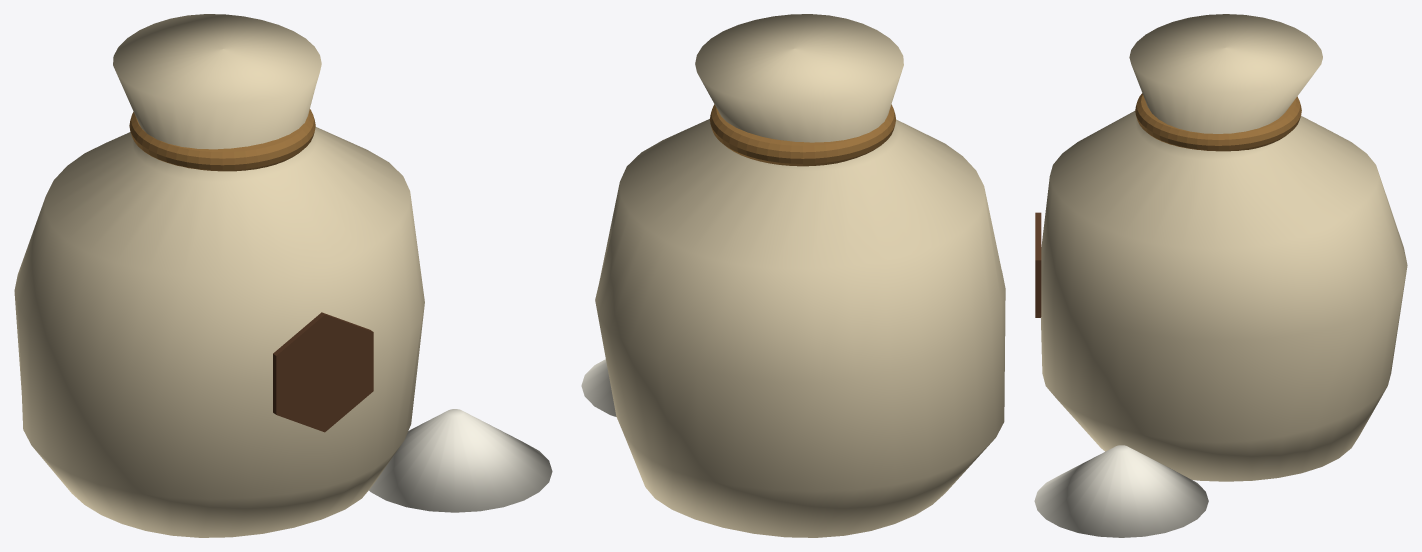
Rendered from mehl.glb.
The picture shows the model from 3 angles, left to right: view 1: azimuth 30°, elevation 25°; view 2: azimuth 150°, elevation 25°; view 3: azimuth 270°, elevation 25°; orthographic projection. The views are drawn at different scales.
Parts seen in each view (by area): view 1: sack, Cone, Cylinder, Torus; view 2: sack, Torus, Cone; view 3: sack, Cone, Torus, Cylinder.
Boxes of the visible parts, bbox=[...] form: sack: bbox=[14, 14, 424, 537]; Cone: bbox=[369, 409, 552, 512]; Cylinder: bbox=[273, 312, 373, 432]; Torus: bbox=[129, 109, 315, 171]; sack: bbox=[595, 14, 1005, 537]; Torus: bbox=[710, 104, 895, 166]; Cone: bbox=[581, 359, 616, 416]; sack: bbox=[1041, 14, 1407, 481]; Cone: bbox=[1034, 445, 1208, 537]; Torus: bbox=[1135, 93, 1301, 151]; Cylinder: bbox=[1035, 212, 1041, 317].
Bounding box in the file's own units: 0.234 × 0.215 × 0.1925.
